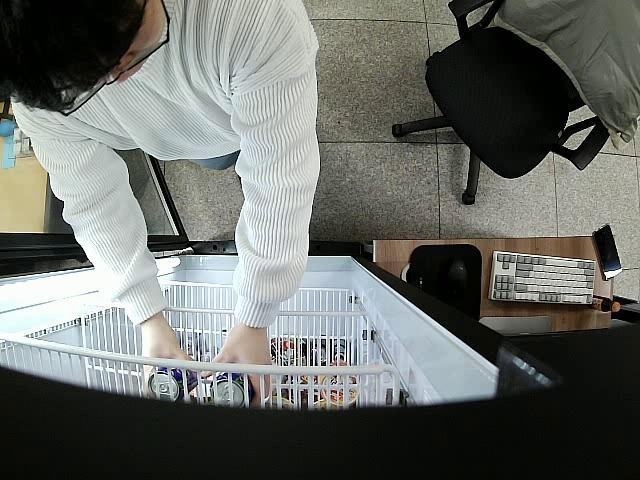14_welchsGrape: (210, 366, 258, 406), (150, 364, 197, 400)
